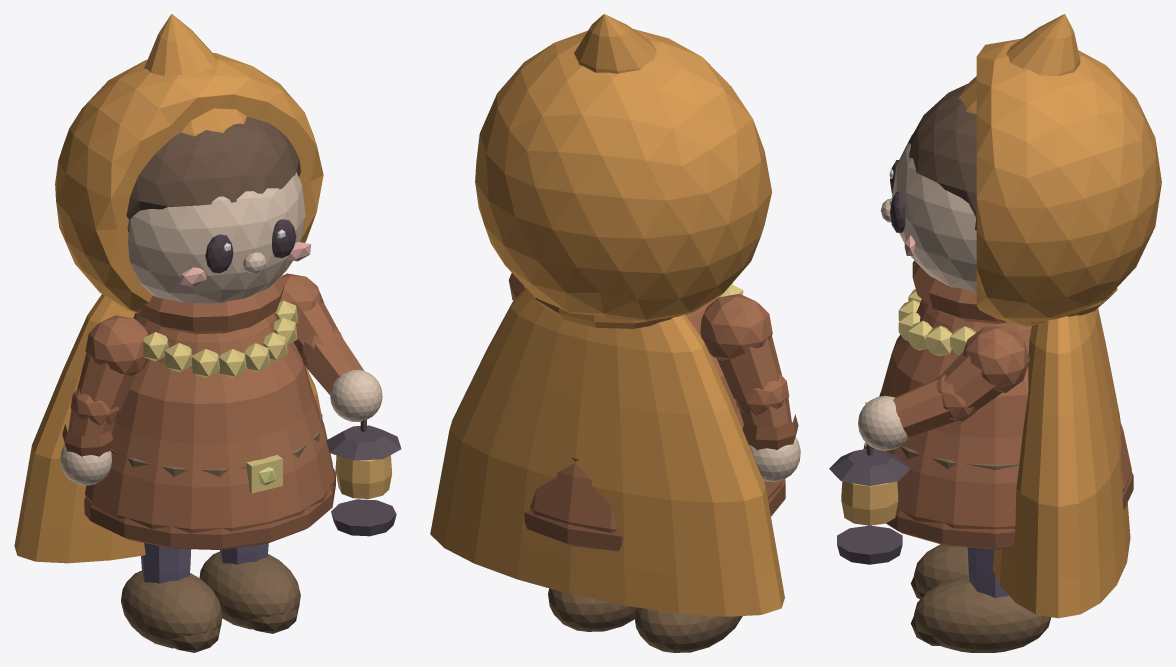
The model's file is hero_monk.glb.
3 views of the same model, side by side, from view 1: azimuth 30°, elevation 25°; view 2: azimuth 150°, elevation 25°; view 3: azimuth 270°, elevation 25° (orthographic). The views are drawn at different scales.
Visible parts, largest first — view 1: hero_monk; view 2: hero_monk; view 3: hero_monk.
Boxes of the visible parts, x1,y1,x2,y2 form: hero_monk: (14,14,401,652); hero_monk: (430,14,800,652); hero_monk: (829,14,1161,652).
Size of the model in its own units: 1.21 by 2.14 by 1.06.
